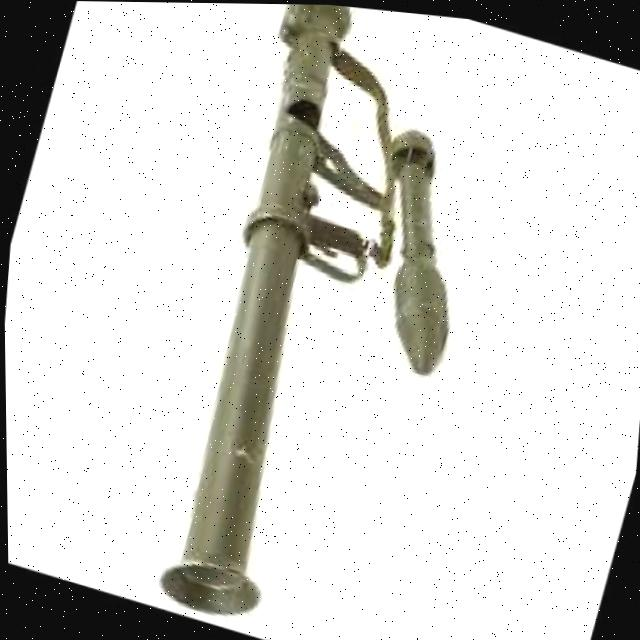rocket: (102, 1, 522, 640)
